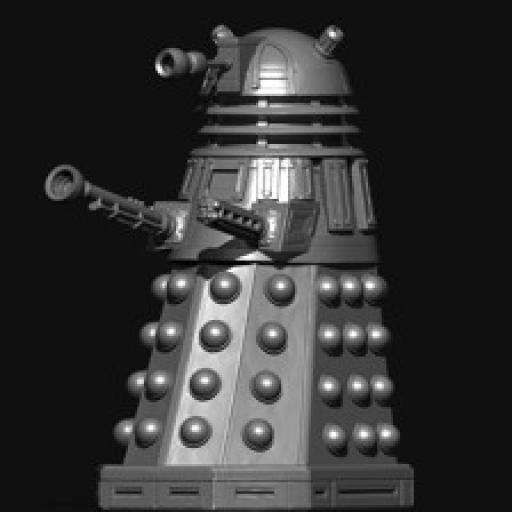dalek: (36, 20, 418, 512)
